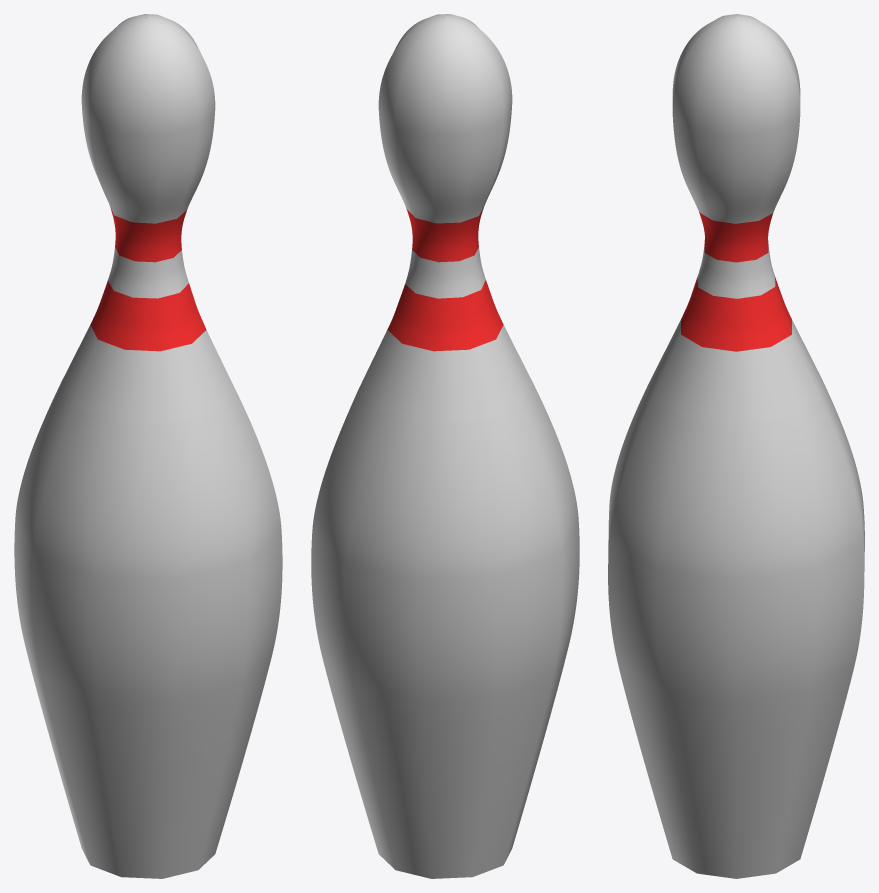
The model's file is kegel_2.fbx.
3 renders of one model, left to right at view 1: azimuth 30°, elevation 25°; view 2: azimuth 150°, elevation 25°; view 3: azimuth 270°, elevation 25°, orthographic.
Visible parts, largest first — view 1: Lathe; view 2: Lathe; view 3: Lathe.
Part boxes in pixels (x1,y1,x2,y2): Lathe: [14, 14, 282, 878]; Lathe: [311, 14, 579, 878]; Lathe: [608, 14, 864, 878].
Size of the model in its own units: 200 by 683 by 191.
